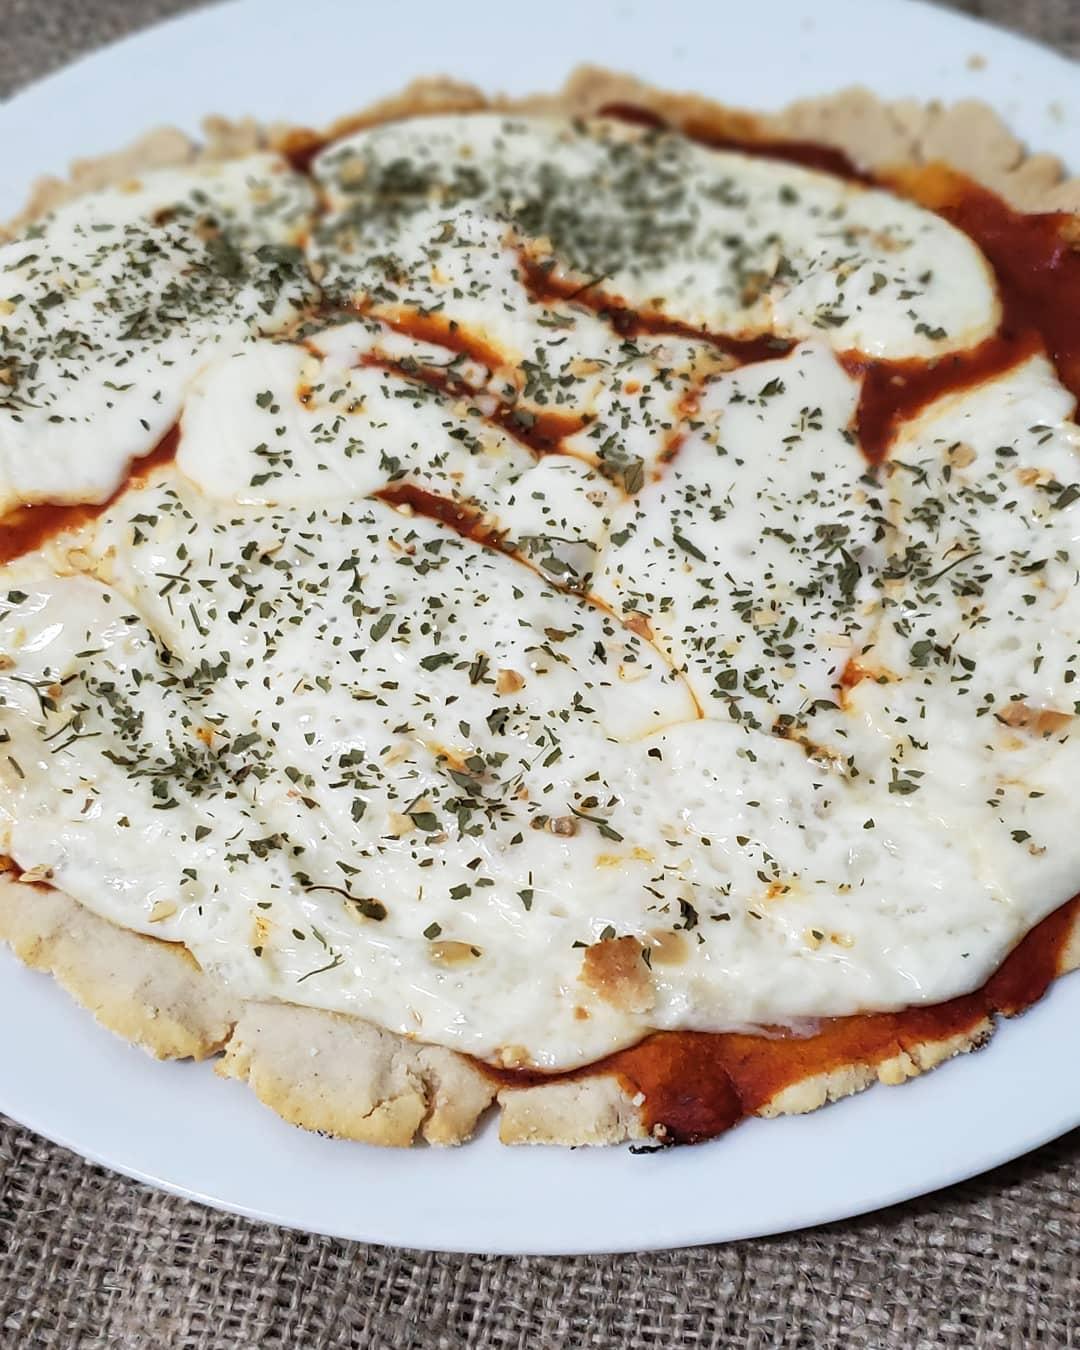Cheese: (703, 538, 980, 855), (393, 639, 692, 932), (87, 584, 380, 846), (575, 174, 860, 309), (20, 241, 207, 439), (435, 352, 709, 465), (261, 180, 525, 294), (743, 428, 1037, 516), (212, 411, 371, 562), (424, 493, 628, 609)
Pizza: (0, 104, 1080, 1126)
